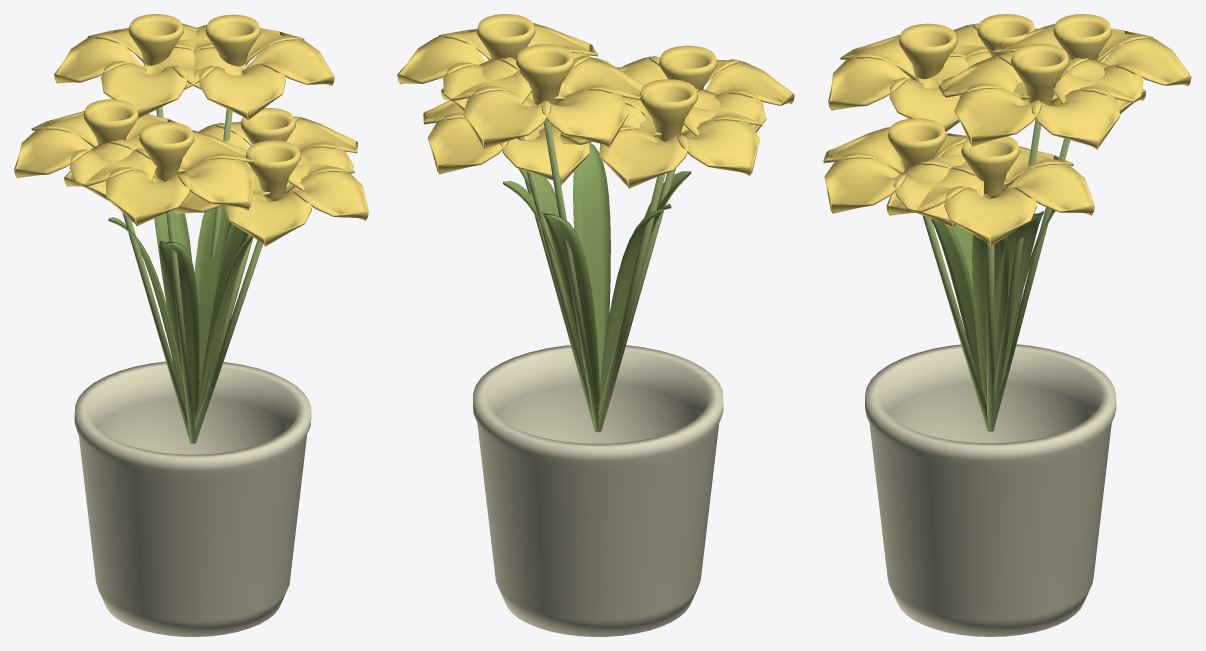
Rendered from daffodils.glb.
3 views of the same model, side by side, from view 1: azimuth 30°, elevation 25°; view 2: azimuth 150°, elevation 25°; view 3: azimuth 270°, elevation 25° (orthographic). The views are drawn at different scales.
Visible parts, largest first — view 1: daffodils__body, daffodils__flowers, daffodils__leaves, daffodils__stems; view 2: daffodils__body, daffodils__flowers, daffodils__leaves, daffodils__stems; view 3: daffodils__body, daffodils__flowers, daffodils__leaves, daffodils__stems.
Part boxes in pixels (bbox=[...]): daffodils__body: bbox=[74, 361, 311, 636]; daffodils__flowers: bbox=[14, 14, 368, 246]; daffodils__leaves: bbox=[108, 173, 252, 427]; daffodils__stems: bbox=[122, 107, 262, 443]; daffodils__body: bbox=[473, 345, 723, 636]; daffodils__flowers: bbox=[397, 14, 794, 188]; daffodils__leaves: bbox=[503, 143, 691, 415]; daffodils__stems: bbox=[518, 119, 675, 432]; daffodils__body: bbox=[865, 344, 1116, 636]; daffodils__flowers: bbox=[823, 14, 1191, 246]; daffodils__leaves: bbox=[931, 185, 1055, 404]; daffodils__stems: bbox=[922, 119, 1070, 431].
Size of the model in its own units: 0.2165 by 0.343 by 0.1991.
